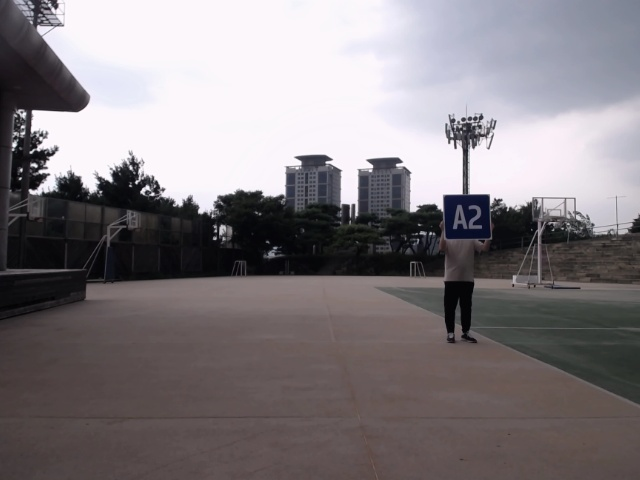delivery_a2: (443, 194, 492, 240)
